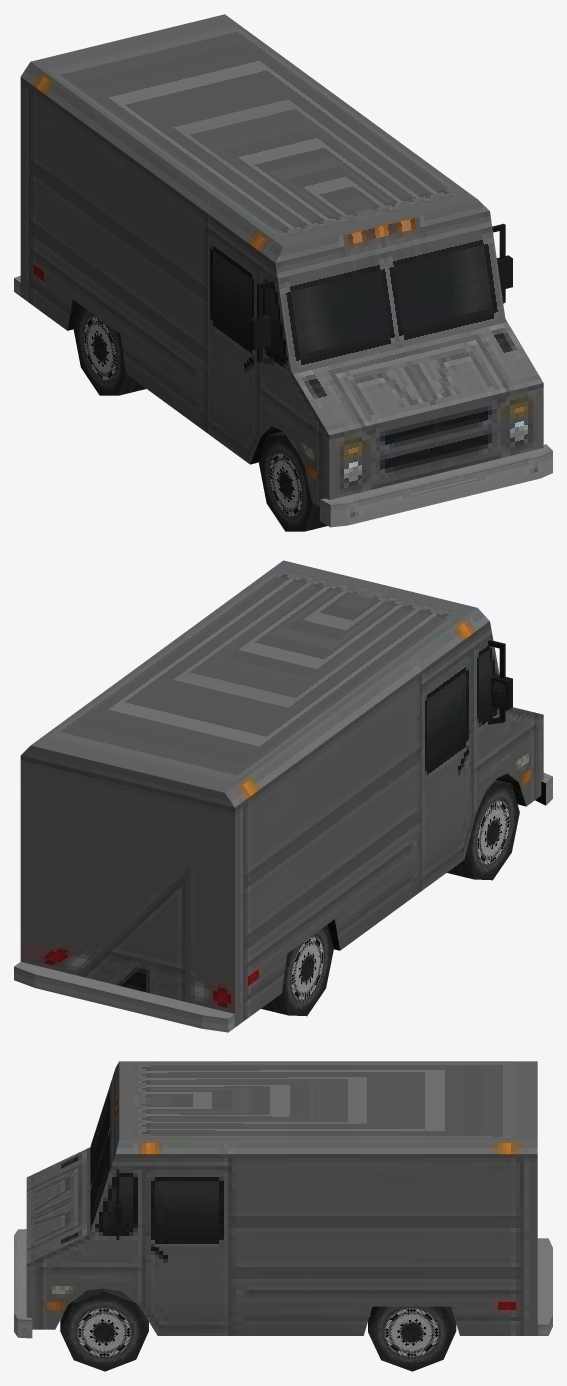
The model's file is car8-grey.glb.
3 renders of one model, top to bottom at view 1: azimuth 30°, elevation 25°; view 2: azimuth 150°, elevation 25°; view 3: azimuth 270°, elevation 25°, orthographic. The views are drawn at different scales.
Parts seen in each view (by area): view 1: Car8; view 2: Car8; view 3: Car8.
Part boxes in pixels (x1,y1,x2,y2): Car8: (14,14,552,531); Car8: (14,560,552,1032); Car8: (14,1061,552,1371).
Size of the model in its own units: 3.17 by 3.23 by 6.89.
Materials: 1 (1 with a texture image).
